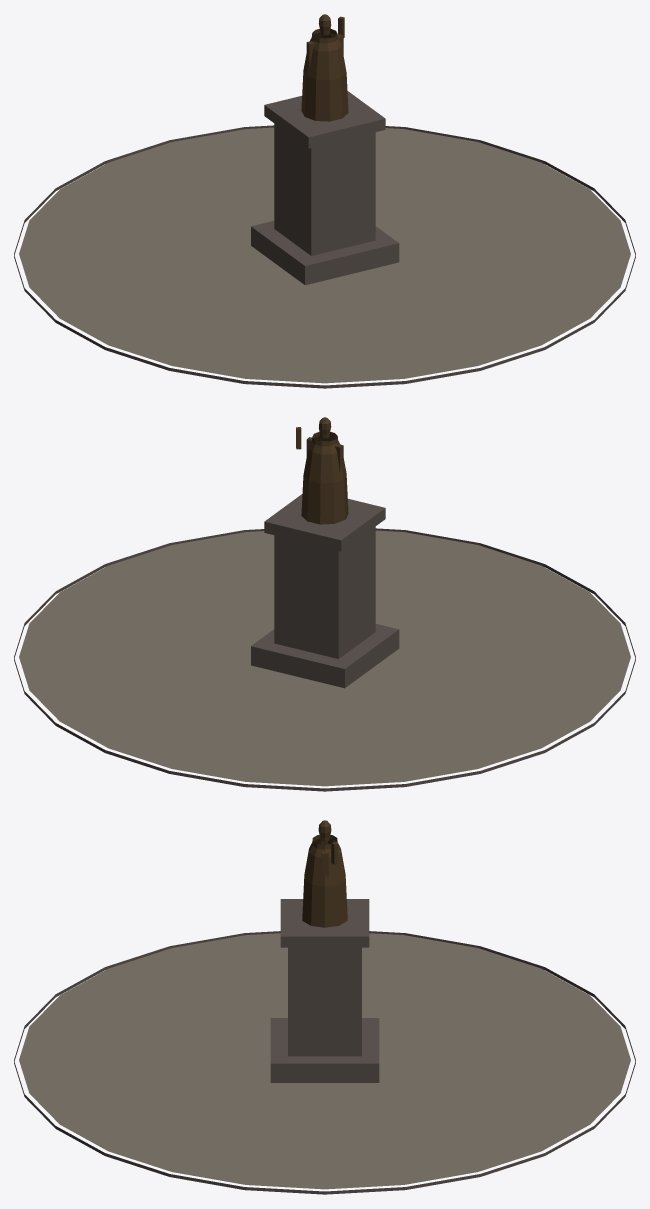
File: petofi-lo.glb
3 views of the same model, one above another, from view 1: azimuth 30°, elevation 25°; view 2: azimuth 150°, elevation 25°; view 3: azimuth 270°, elevation 25° (orthographic).
Parts seen in each view (by area): view 1: lm-petofi; view 2: lm-petofi; view 3: lm-petofi.
Boxes of the visible parts, x1=… form: lm-petofi: x1=14, y1=14, x2=635, y2=388; lm-petofi: x1=14, y1=417, x2=635, y2=791; lm-petofi: x1=14, y1=820, x2=635, y2=1194.
Size of the model in its own units: 12.6 by 5.42 by 12.6.
